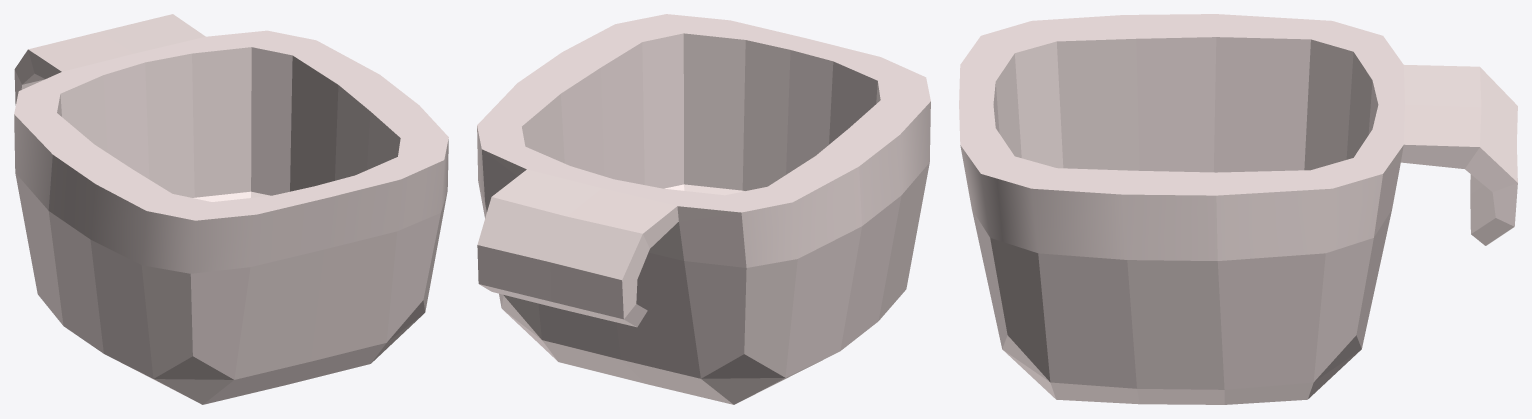
Rendered from PlantPot_40.fbx.
3 views of the same model, side by side, from view 1: azimuth 30°, elevation 25°; view 2: azimuth 150°, elevation 25°; view 3: azimuth 270°, elevation 25° (orthographic). The views are drawn at different scales.
Visible parts, largest first — view 1: PlantPot_40; view 2: PlantPot_40; view 3: PlantPot_40.
Part boxes in pixels (x1,y1,x2,y2): PlantPot_40: (14,14,448,404); PlantPot_40: (477,14,930,404); PlantPot_40: (959,14,1517,404).
Bounding box in the file's own units: 22.76 × 14.21 × 28.99.
